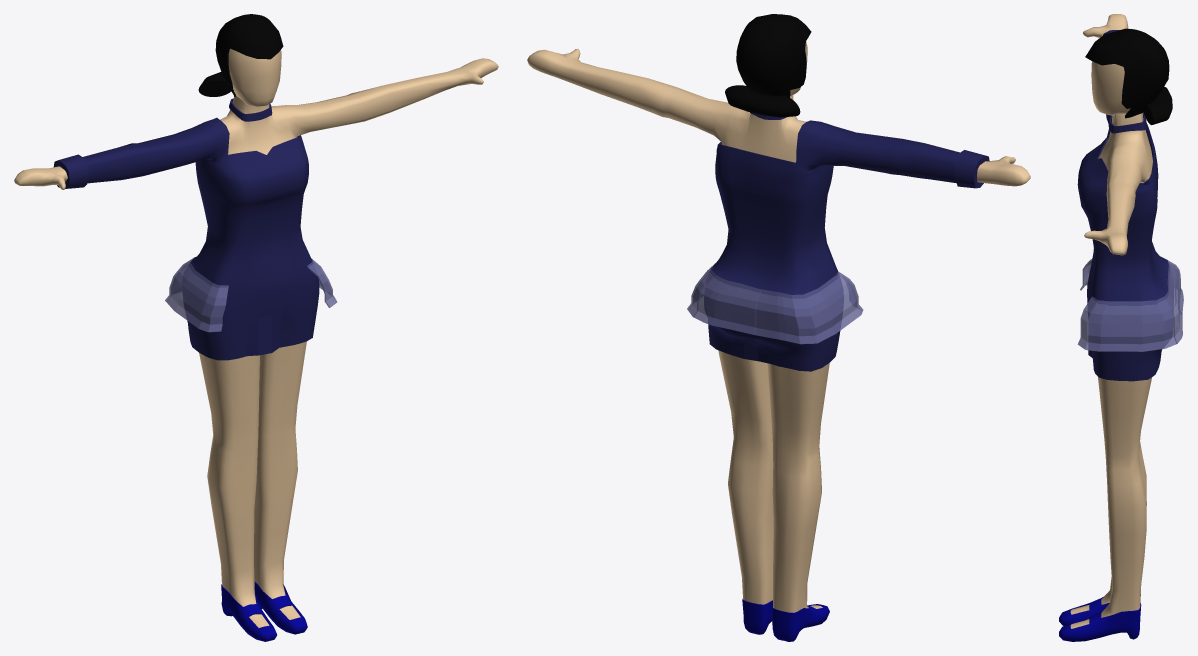
Rendered from waitress.fbx.
3 views of the same model, side by side, from view 1: azimuth 30°, elevation 25°; view 2: azimuth 150°, elevation 25°; view 3: azimuth 270°, elevation 25° (orthographic). The views are drawn at different scales.
Parts seen in each view (by area): view 1: body, dress, hair, shoes; view 2: dress, body, hair, shoes; view 3: body, dress, hair, shoes.
Part boxes in pixels (left/top/right/bottom): body: left=14, top=48, right=498, bottom=627; dress: left=53, top=98, right=337, bottom=360; hair: left=198, top=14, right=283, bottom=96; shoes: left=221, top=581, right=307, bottom=641; dress: left=687, top=112, right=989, bottom=371; body: left=527, top=41, right=1030, bottom=612; hair: left=725, top=14, right=811, bottom=117; shoes: left=742, top=599, right=829, bottom=641; body: left=1070, top=14, right=1152, bottom=628; dress: left=1077, top=30, right=1183, bottom=381; hair: left=1085, top=28, right=1172, bottom=125; shoes: left=1059, top=595, right=1141, bottom=641.
Size of the model in its own units: 142 by 168 by 31.7.
